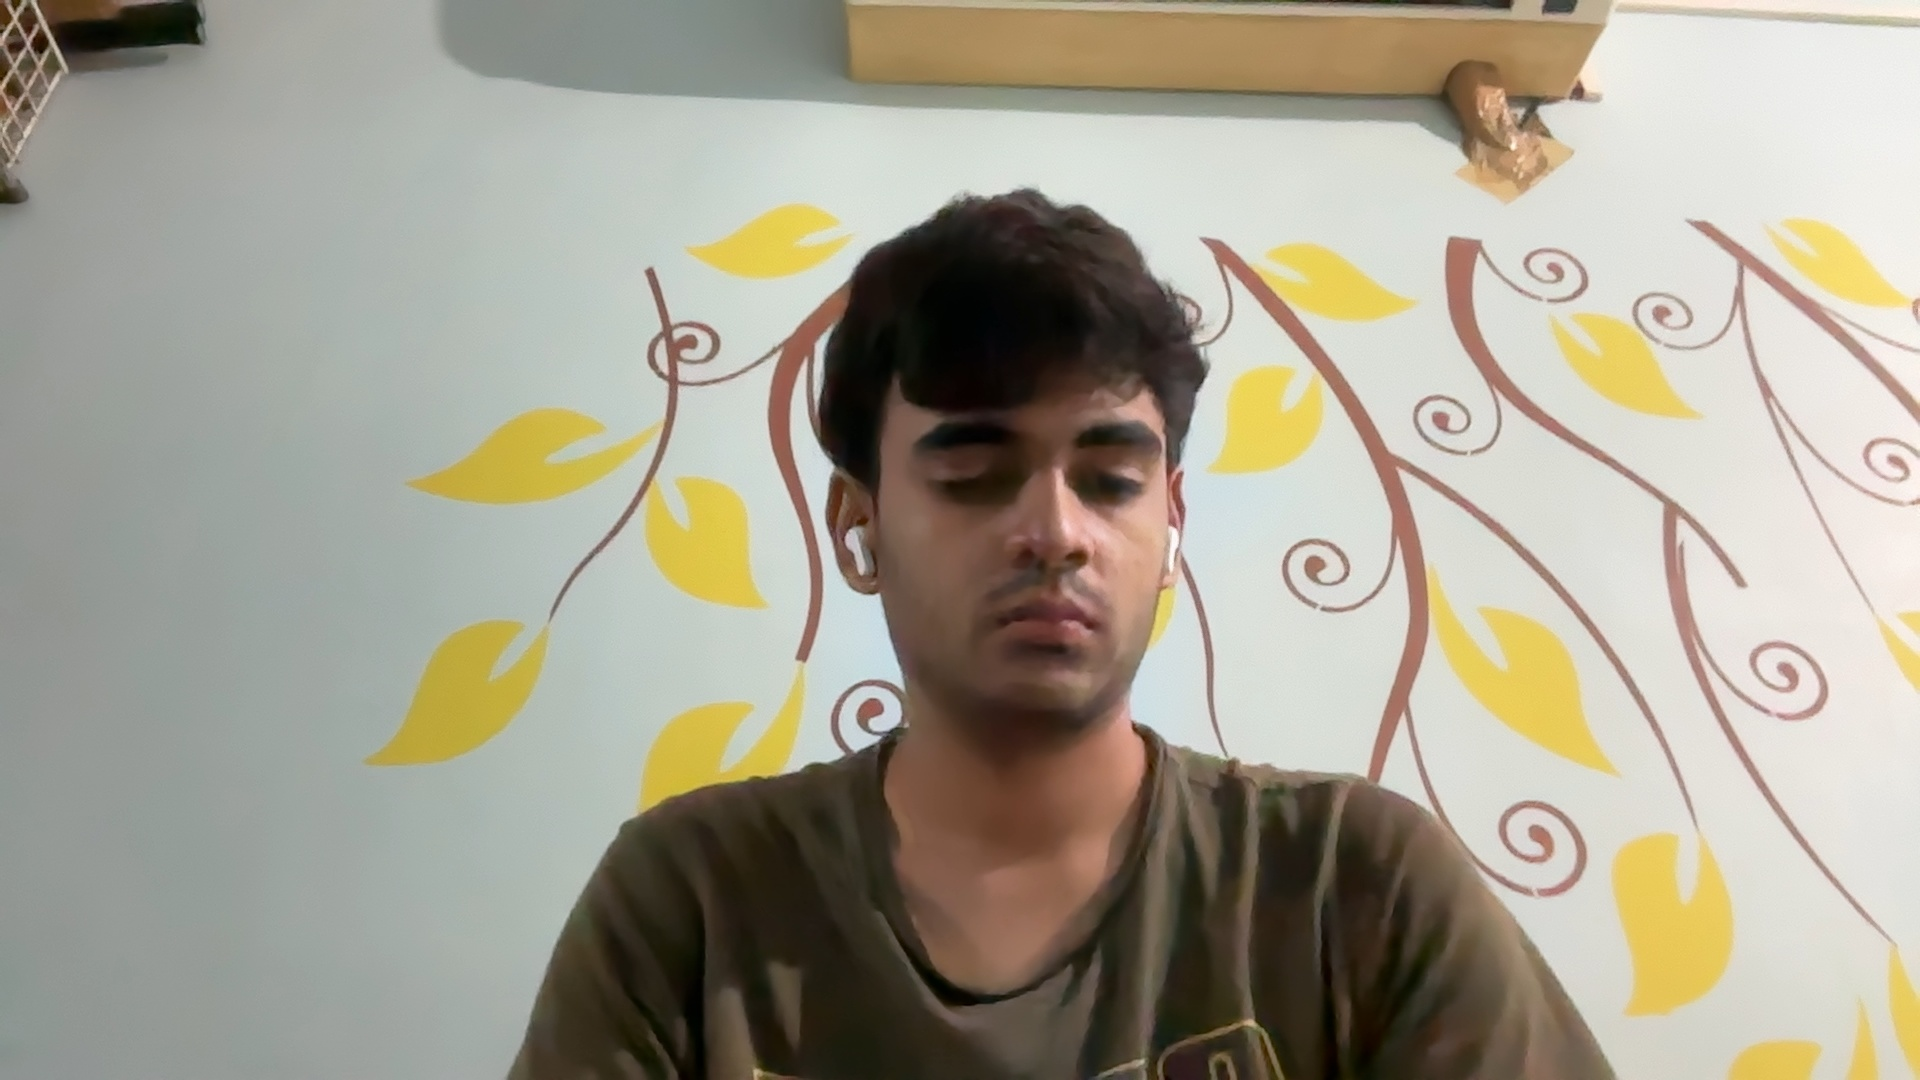No Mask: (893, 530, 1160, 719)
